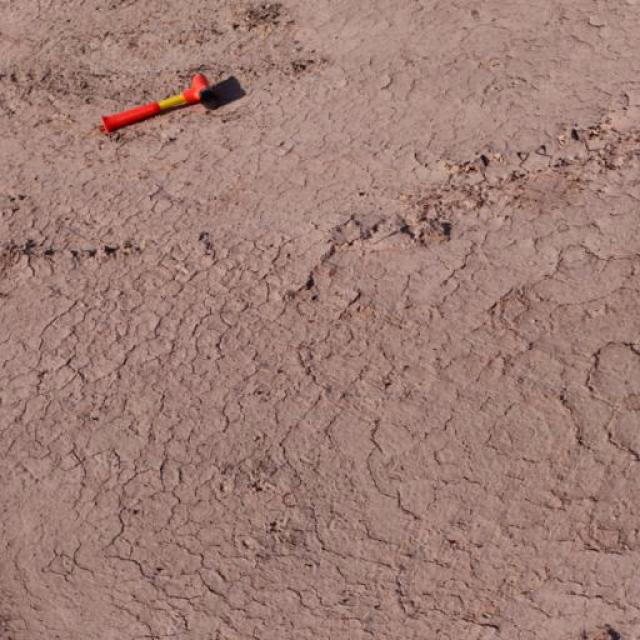mallet: (99, 71, 220, 135)
